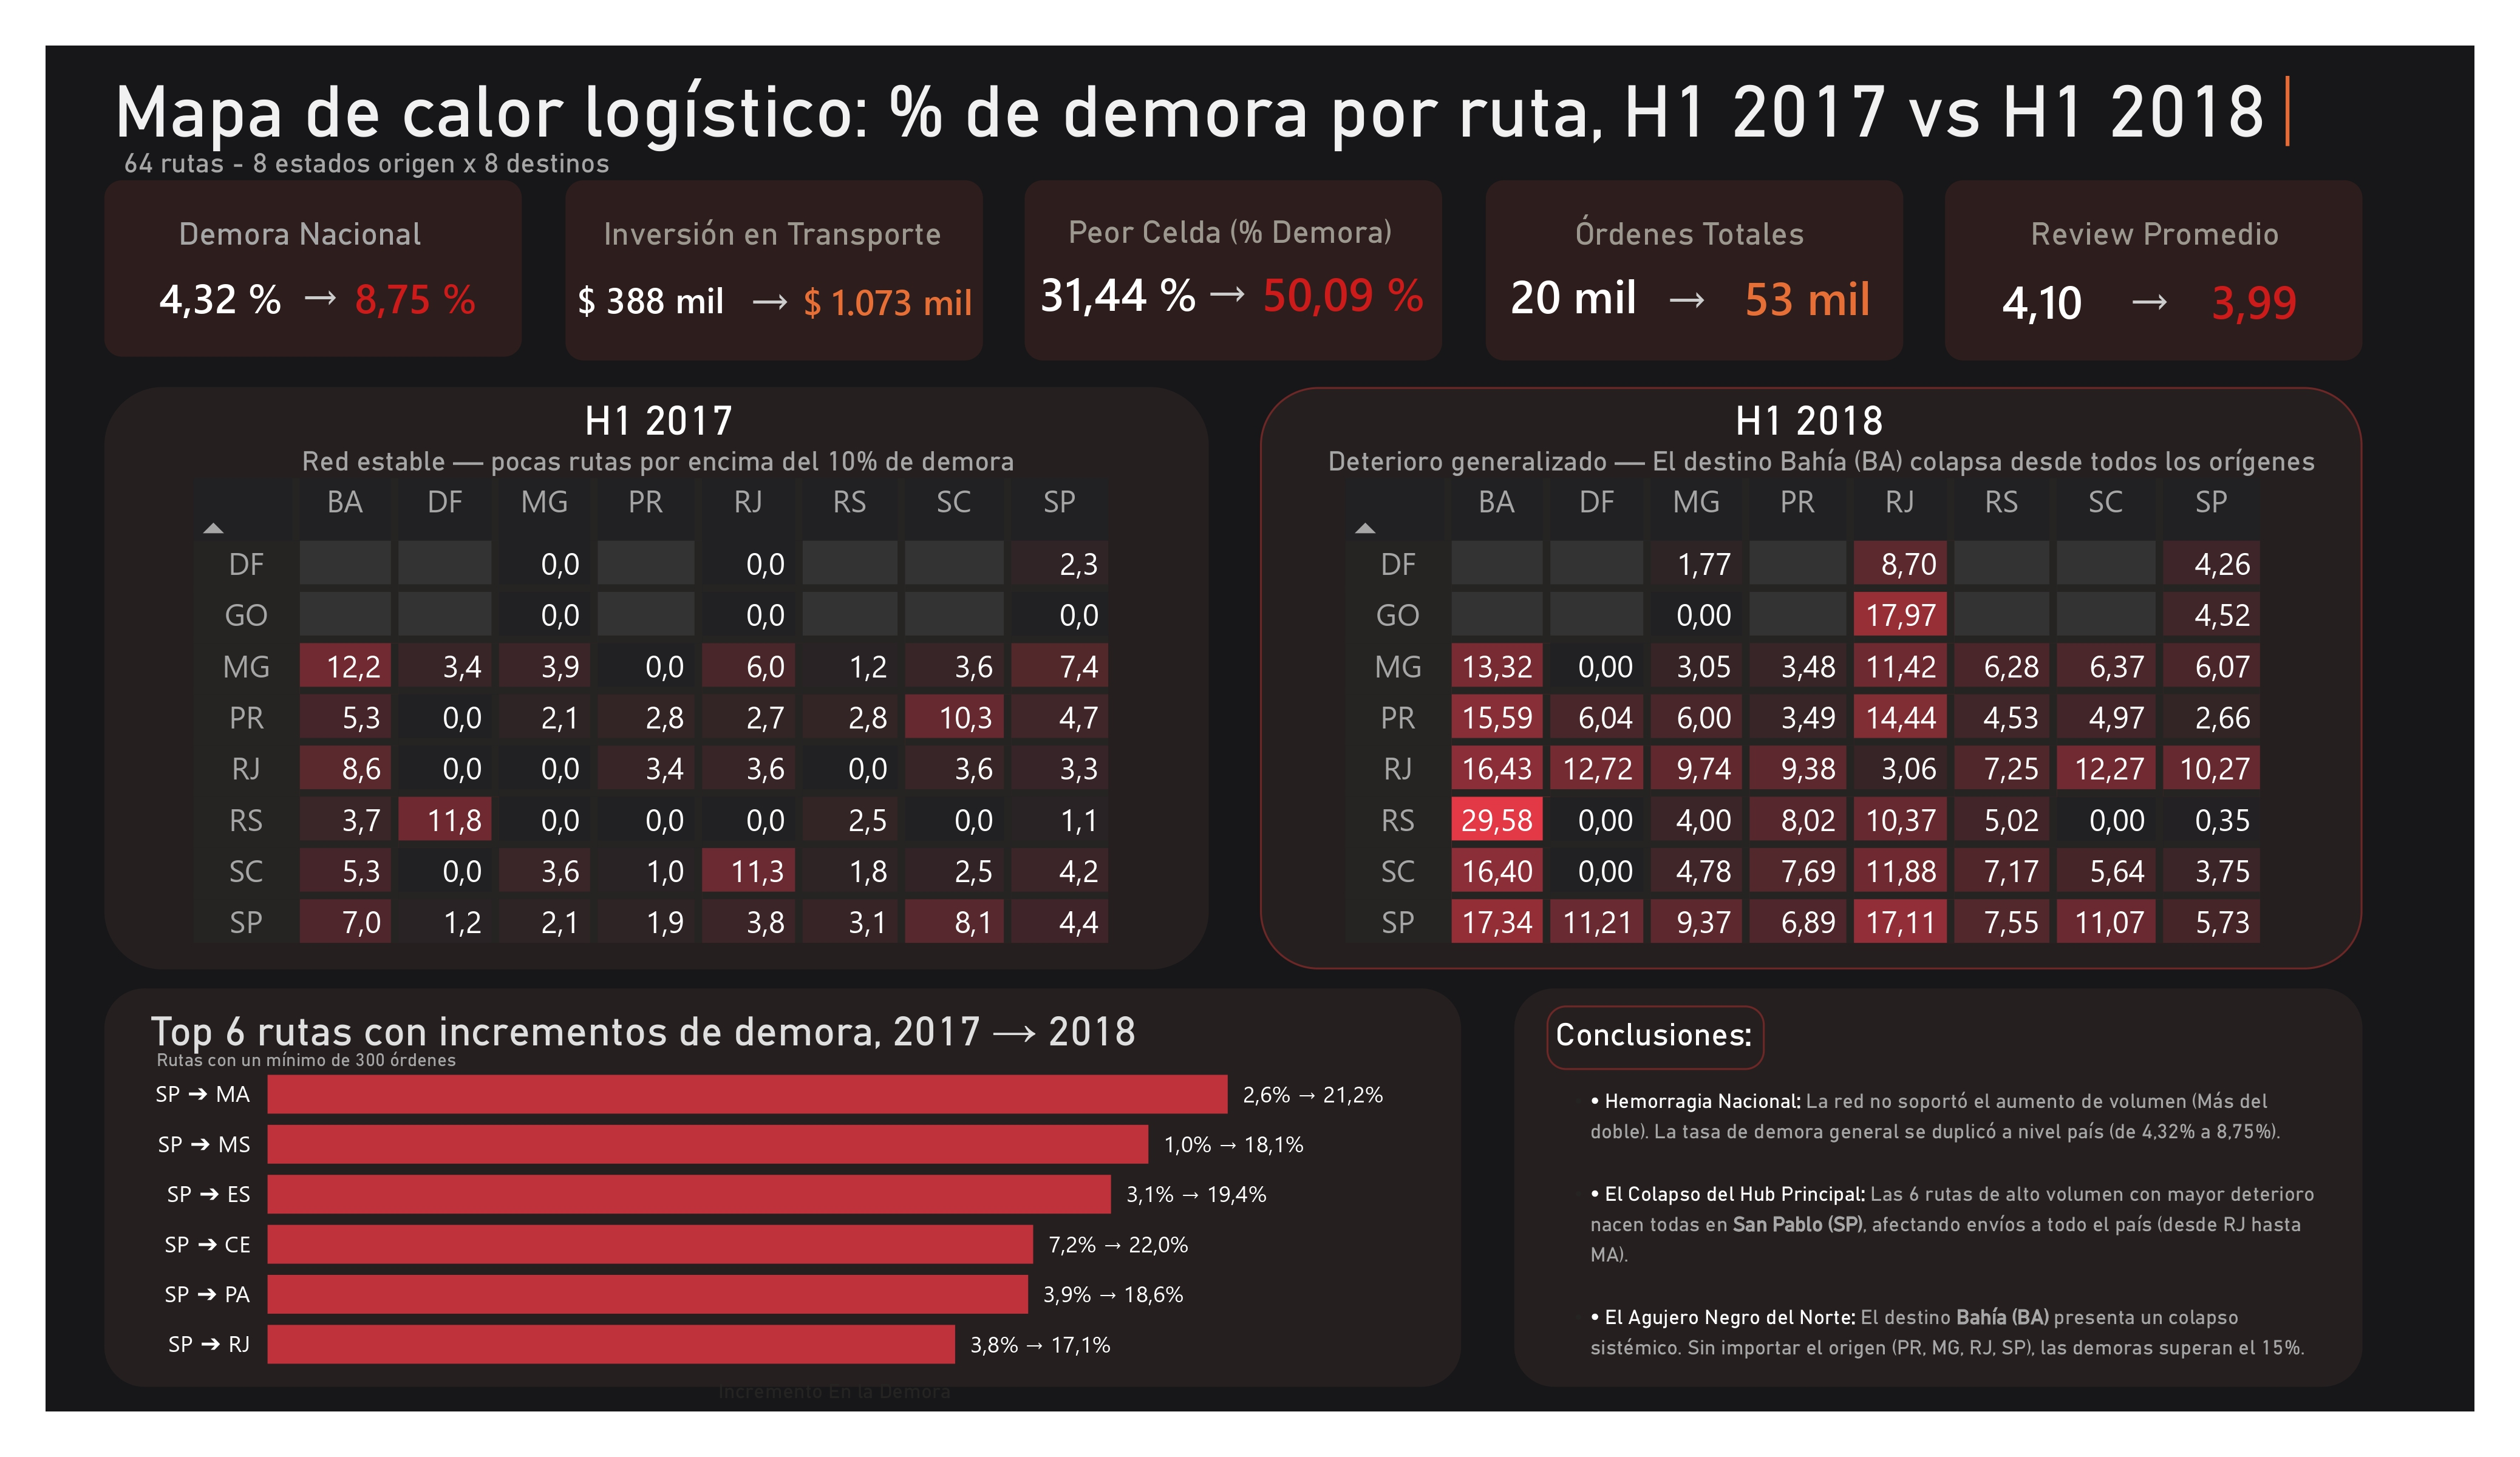

The dashboard page shown, as its layout file describes it:
{"tool":"powerbi","page":{"name":"Página 1","canvas":[1280,720],"ordinal":0},"visuals":[{"type":"shape","box":[31.4,71.4,220,92.9],"z":0},{"type":"shape","box":[31.1,180,582.2,306.7],"z":1000},{"type":"shape","box":[640,180,581.1,306.7],"z":2000},{"type":"shape","box":[31.1,496.7,714.4,210],"z":3000},{"type":"shape","box":[1001.4,71.4,220,94.3],"z":4000},{"type":"shape","box":[758.6,71.4,220,94.3],"z":5000},{"type":"shape","box":[274.3,71.4,220,94.3],"z":6000},{"type":"shape","box":[515.7,71.4,220,94.3],"z":7000},{"type":"shape","box":[774.4,496.7,446.7,210],"z":8000},{"type":"clusteredBarChart","fields":{"Category":["Datos.Ruta_Completa"],"Y":["Datos.Incremento_Demora"]},"box":[48.9,518.9,671.1,201.1],"z":9000},{"type":"textbox","box":[65.4,83.8,151.5,31.5],"z":10000},{"type":"cardVisual","fields":{"Data":["Datos.Demora_Nacional_2017"]},"box":[31.4,101.4,125.7,60],"z":11000},{"type":"textbox","box":[128.7,109.3,35.3,44],"z":12000},{"type":"cardVisual","fields":{"Data":["Datos.Demora_Nacional_2018"]},"box":[134,101.3,126,60],"z":13000},{"type":"textbox","box":[288.8,84.1,198.8,52.4],"z":14000},{"type":"cardVisual","fields":{"Data":["Datos.Gasto_Fletes_2017"]},"box":[251.2,100,174.7,64.1],"z":15000},{"type":"textbox","box":[364.7,109.3,38.7,52],"z":16000},{"type":"cardVisual","fields":{"Data":["Datos.Gasto_Fletes_2018"]},"box":[370,101.2,151.2,64.1],"z":17000},{"type":"textbox","box":[534,83,183,52.5],"z":18000},{"type":"cardVisual","fields":{"Data":["Datos.Peor_Celda_2017"]},"box":[494.6,96.9,156.2,64.6],"z":19000},{"type":"textbox","box":[606.2,104.6,38.5,52.3],"z":20000},{"type":"cardVisual","fields":{"Data":["Datos.Peor_Celda_2018"]},"box":[612.3,96.9,154.6,64.6],"z":21000},{"type":"textbox","box":[801,83.5,134.5,51.5],"z":22000},{"type":"cardVisual","fields":{"Data":["Sum(Datos.total_orders_2017)"]},"box":[742.5,96.7,144.2,65],"z":23000},{"type":"textbox","box":[848.3,107.5,39.2,51.7],"z":24000},{"type":"cardVisual","fields":{"Data":["Sum(Datos.total_orders_2018)"]},"box":[865.8,98.3,154.2,65],"z":25000},{"type":"textbox","box":[1040.5,83.5,142,52],"z":26000},{"type":"cardVisual","fields":{"Data":["Datos.Review_2017"]},"box":[1001.8,100.9,110,64.5],"z":27000},{"type":"cardVisual","fields":{"Data":["Datos.Review_2018"]},"box":[1111.8,100.9,109.1,64.5],"z":28000},{"type":"textbox","box":[1091.8,109.1,39.1,51.8],"z":29000},{"type":"pivotTable","fields":{"Rows":["Datos.seller_state"],"Columns":["Datos.customer_state"],"Values":["Sum(Datos.delay_value_pct_per_state_2017)"]},"box":[72.9,222.9,500,262.9],"z":30000},{"type":"pivotTable","fields":{"Rows":["Datos.seller_state"],"Columns":["Datos.customer_state"],"Values":["Sum(Datos.delay_value_pct_per_state_2018)"]},"box":[680,222.9,500,264.3],"z":31000},{"type":"textbox","box":[31.4,7.1,1171.4,54.3],"z":32000},{"type":"textbox","box":[50,500,533.8,46.2],"z":33000},{"type":"textbox","box":[267.1,180,111.8,35.9],"z":34000},{"type":"textbox","box":[881.2,180,97.1,35.9],"z":35000},{"type":"textbox","box":[106,205,434,35],"z":36000},{"type":"textbox","box":[668.8,205,533.8,35],"z":37000},{"type":"shape","box":[791.1,505.8,114.7,34.2],"z":38000},{"type":"textbox","box":[790.5,506.3,412.6,213.7],"z":39000},{"type":"textbox","box":[35.6,47.5,274.4,35.6],"z":40000},{"type":"shape","box":[1155.7,15.7,51.4,37.1],"z":41000},{"type":"textbox","box":[45.4,519.2,184.6,33.8],"z":42000}]}

Visuals, with their boxes on the page's 1280x720 design canvas (x1, y1, x2, y2). These are canvas units, not pixel positions in the 2520x1457 screenshot, which may show the page scaled, cropped or inside an application window:
shape: box=[31, 71, 251, 164]
shape: box=[31, 180, 613, 487]
shape: box=[640, 180, 1221, 487]
shape: box=[31, 497, 746, 707]
shape: box=[1001, 71, 1221, 166]
shape: box=[759, 71, 979, 166]
shape: box=[274, 71, 494, 166]
shape: box=[516, 71, 736, 166]
shape: box=[774, 497, 1221, 707]
clusteredBarChart - Datos.Ruta_Completa x Datos.Incremento_Demora: box=[49, 519, 720, 720]
textbox: box=[65, 84, 217, 115]
cardVisual - Datos.Demora_Nacional_2017: box=[31, 101, 157, 161]
textbox: box=[129, 109, 164, 153]
cardVisual - Datos.Demora_Nacional_2018: box=[134, 101, 260, 161]
textbox: box=[289, 84, 488, 136]
cardVisual - Datos.Gasto_Fletes_2017: box=[251, 100, 426, 164]
textbox: box=[365, 109, 403, 161]
cardVisual - Datos.Gasto_Fletes_2018: box=[370, 101, 521, 165]
textbox: box=[534, 83, 717, 136]
cardVisual - Datos.Peor_Celda_2017: box=[495, 97, 651, 162]
textbox: box=[606, 105, 645, 157]
cardVisual - Datos.Peor_Celda_2018: box=[612, 97, 767, 162]
textbox: box=[801, 84, 936, 135]
cardVisual - Sum(Datos.total_orders_2017): box=[742, 97, 887, 162]
textbox: box=[848, 108, 888, 159]
cardVisual - Sum(Datos.total_orders_2018): box=[866, 98, 1020, 163]
textbox: box=[1040, 84, 1182, 136]
cardVisual - Datos.Review_2017: box=[1002, 101, 1112, 165]
cardVisual - Datos.Review_2018: box=[1112, 101, 1221, 165]
textbox: box=[1092, 109, 1131, 161]
pivotTable - Datos.seller_state x Datos.customer_state: box=[73, 223, 573, 486]
pivotTable - Datos.seller_state x Datos.customer_state: box=[680, 223, 1180, 487]
textbox: box=[31, 7, 1203, 61]
textbox: box=[50, 500, 584, 546]
textbox: box=[267, 180, 379, 216]
textbox: box=[881, 180, 978, 216]
textbox: box=[106, 205, 540, 240]
textbox: box=[669, 205, 1203, 240]
shape: box=[791, 506, 906, 540]
textbox: box=[790, 506, 1203, 720]
textbox: box=[36, 48, 310, 83]
shape: box=[1156, 16, 1207, 53]
textbox: box=[45, 519, 230, 553]
